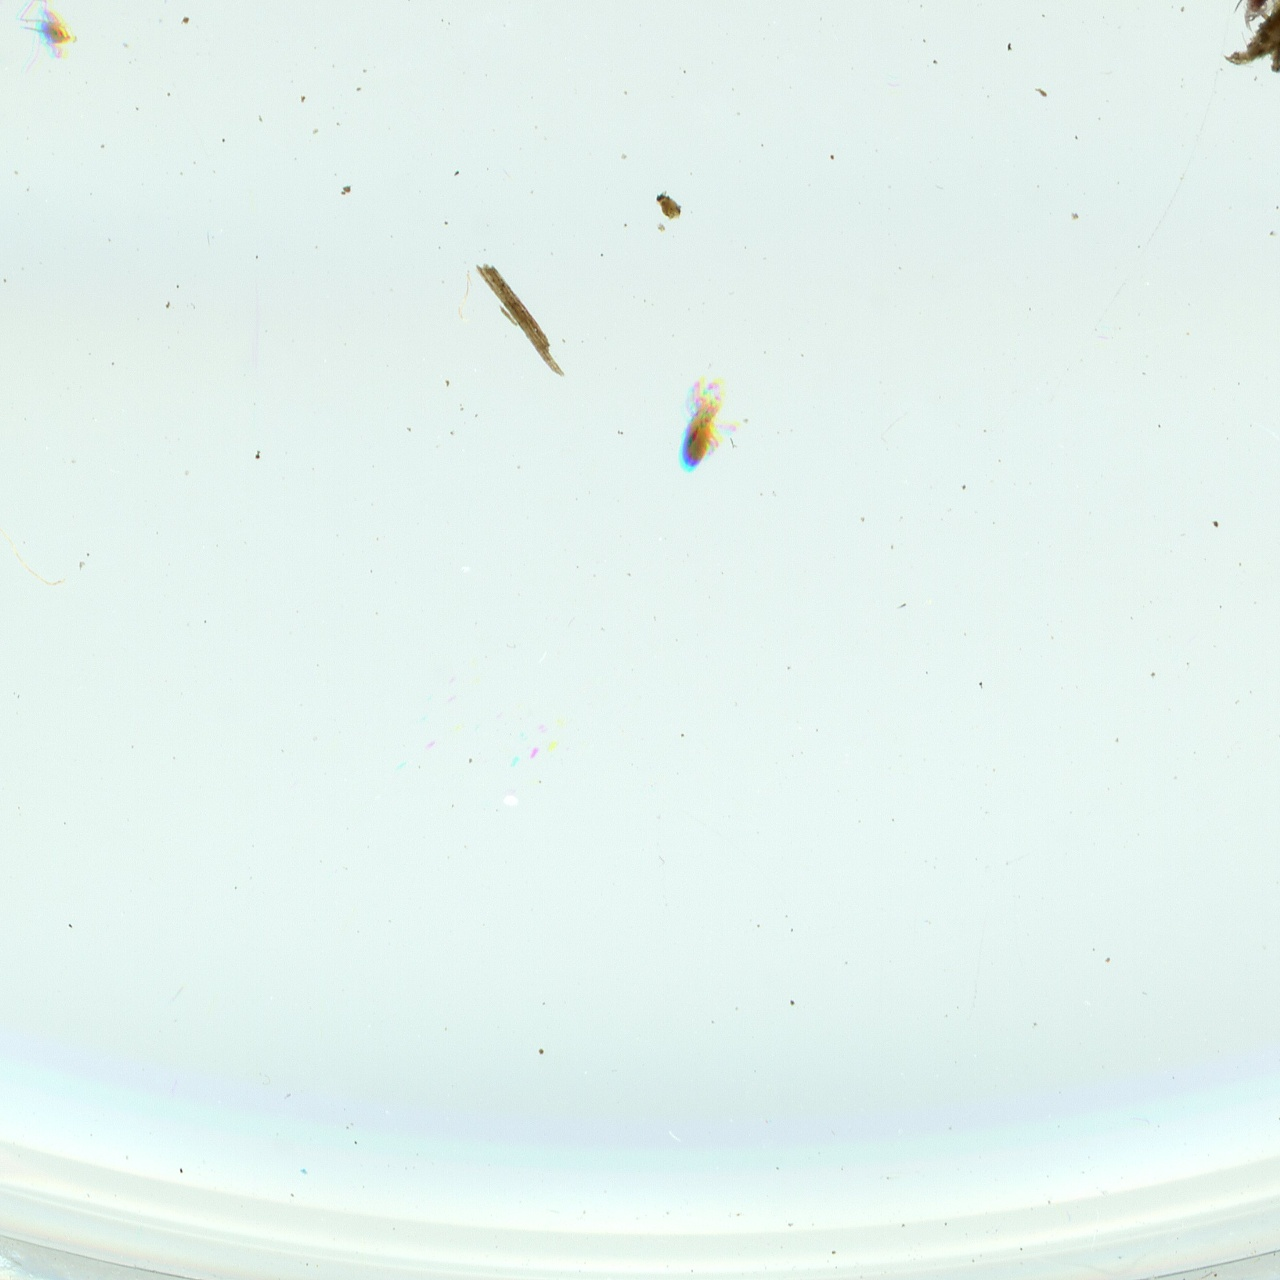arthropod: (670, 369, 754, 484), (0, 0, 90, 81), (1226, 0, 1280, 41)
